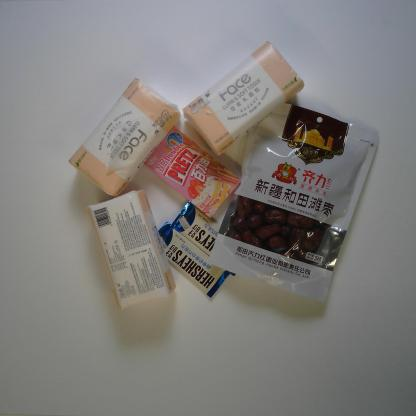Chocolate: (150, 219, 230, 300), (170, 200, 251, 278)
Dessert: (138, 124, 243, 216)
Dried Food: (207, 95, 382, 303)
Tissue: (182, 38, 306, 155), (65, 76, 181, 200), (84, 188, 179, 313)
